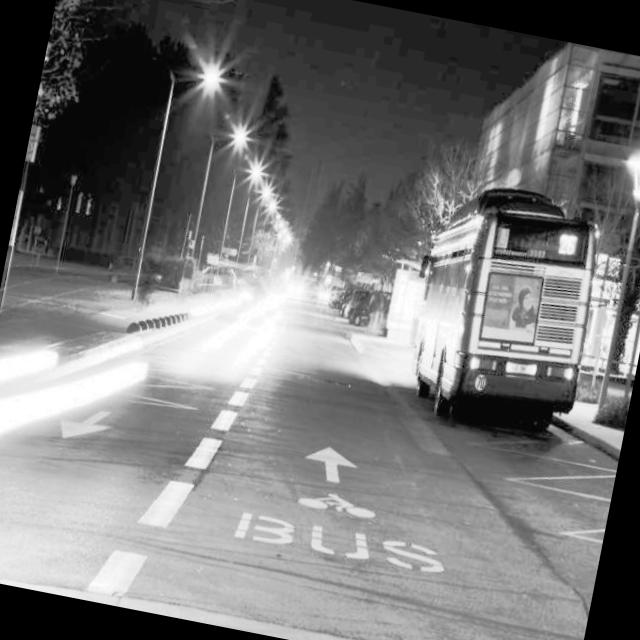Bus: (392, 168, 614, 478)
Car: (254, 238, 326, 344), (321, 283, 394, 340)
